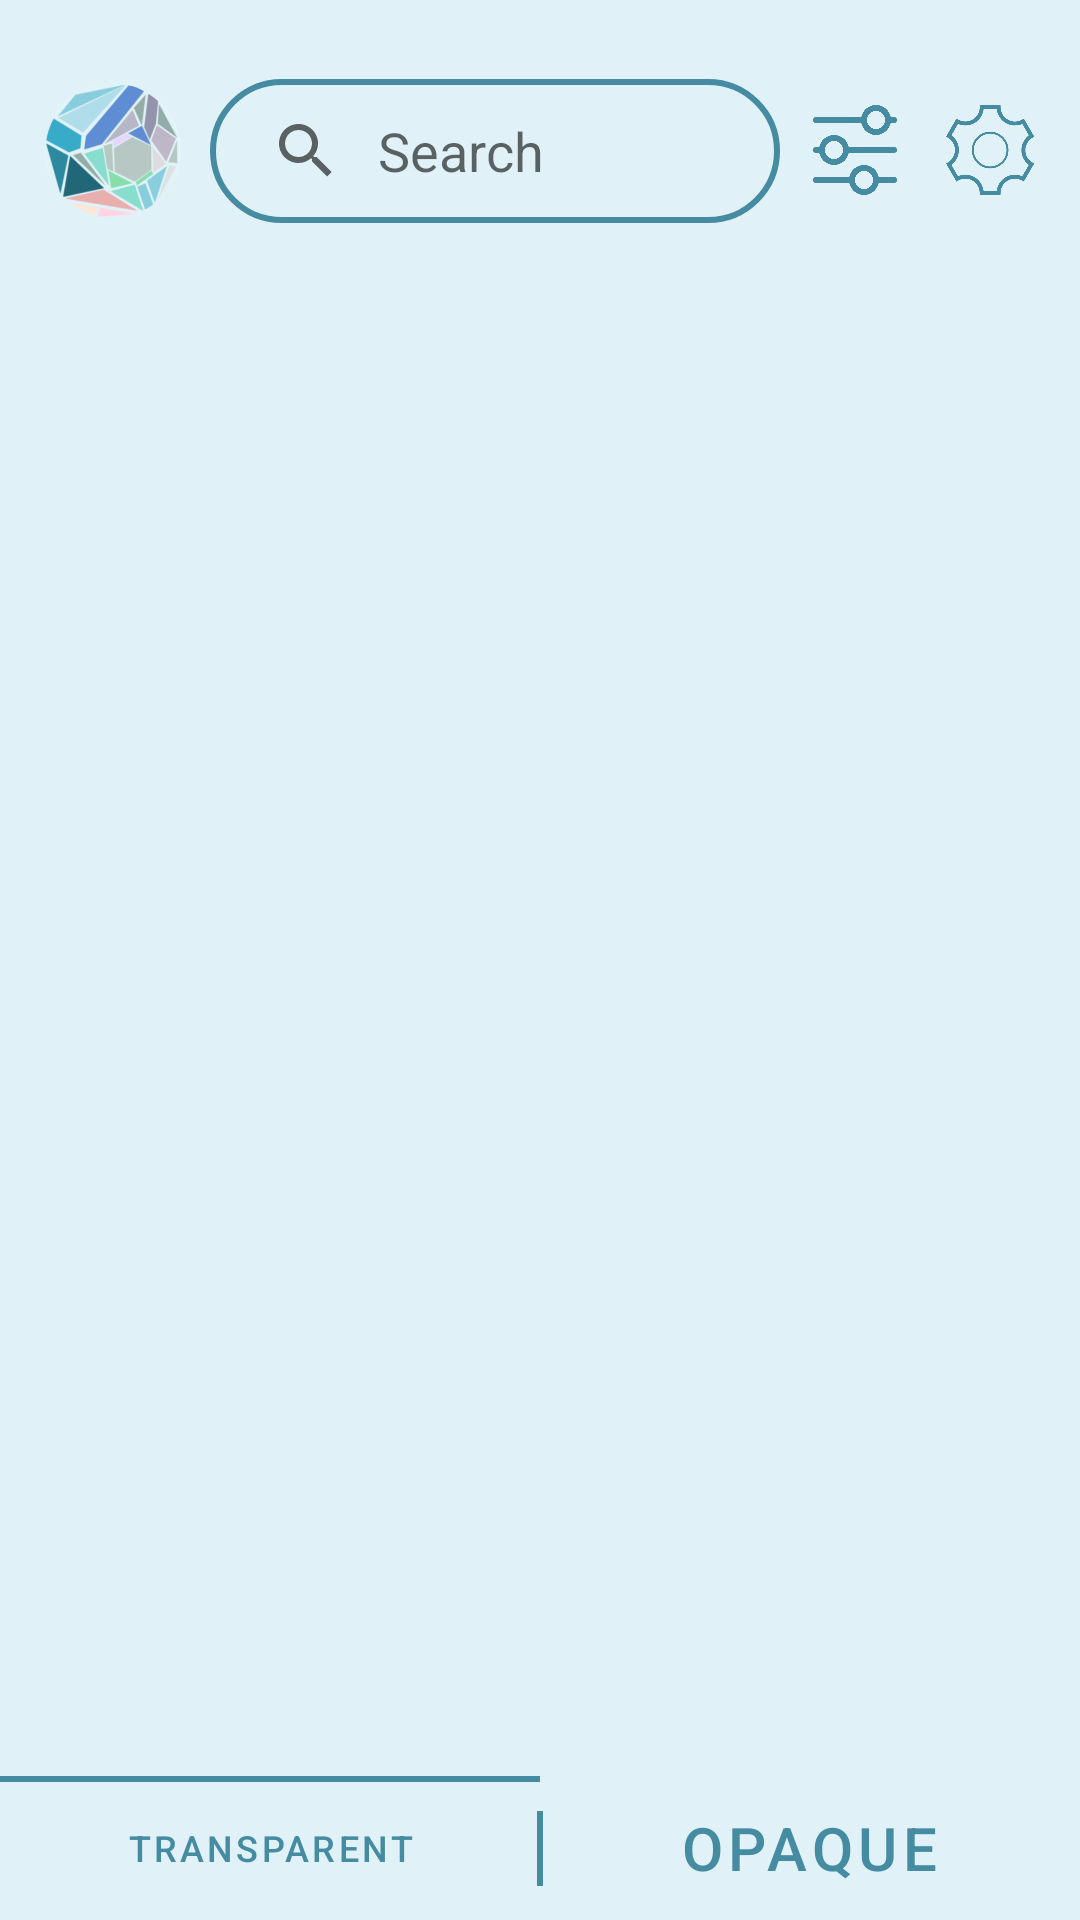

Named icons in this screenshot (1080 × 1920) and their centers, [x,y]:
filters: [855,150]
settings: [990,150]
